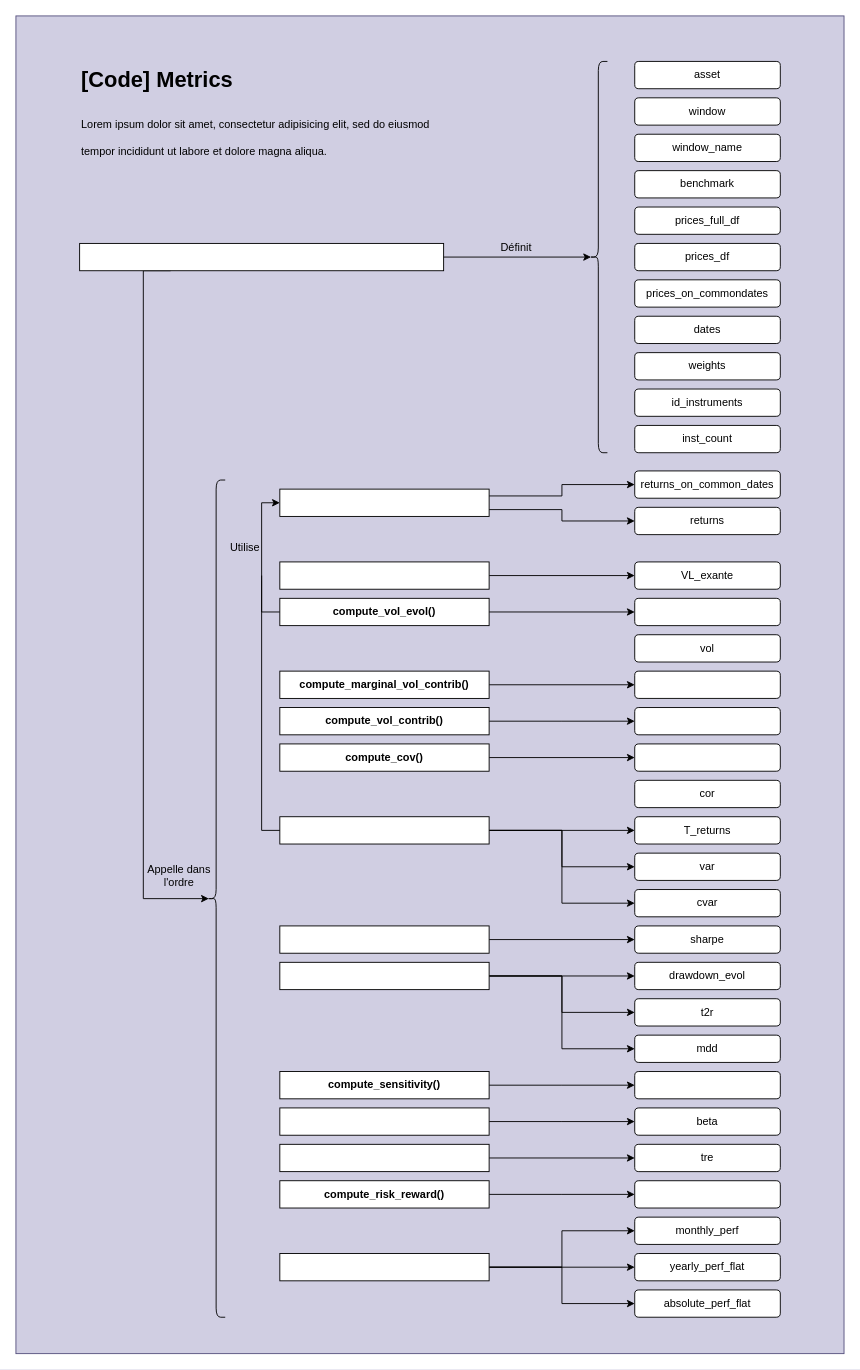
The diagram is 860 pixels wide and 1370 high, and some of its shapes have lost their labels. Each missing label, with the centre of its shape:
"__init__(window_name, window, asset, T, alpha, risk_free_rate)" goes at point (261, 257).
"compute_beta()" goes at point (384, 1121).
"compute_drawdown_evol()" goes at point (384, 975).
"compute_perf_flat()" goes at point (384, 1267).
"compute_returns(prices_df, weights, T)" goes at point (384, 502).
"compute_sharpe()" goes at point (384, 939).
"compute_tre()" goes at point (384, 1157).
"compute_VL_exante()" goes at point (384, 575).
"cov" goes at point (707, 757).
"mcr" goes at point (707, 684).
"risk_reward" goes at point (707, 1194).
"sensitivity" goes at point (707, 1085).
"update_var_cvar(T,alpha)" goes at point (384, 830).
"vol_contrib" goes at point (707, 721).
"vol_evol" goes at point (707, 611).
